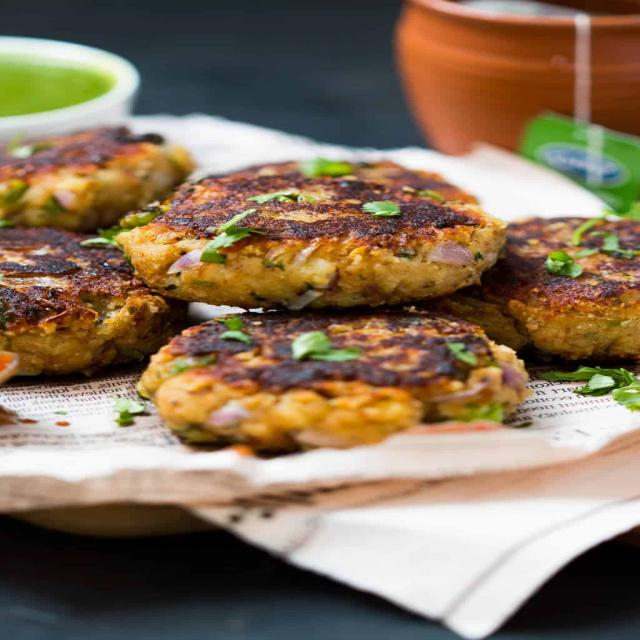Aloo Tikki: (116, 161, 502, 308), (142, 314, 528, 456), (452, 216, 640, 366), (0, 227, 162, 376), (0, 124, 194, 226)
